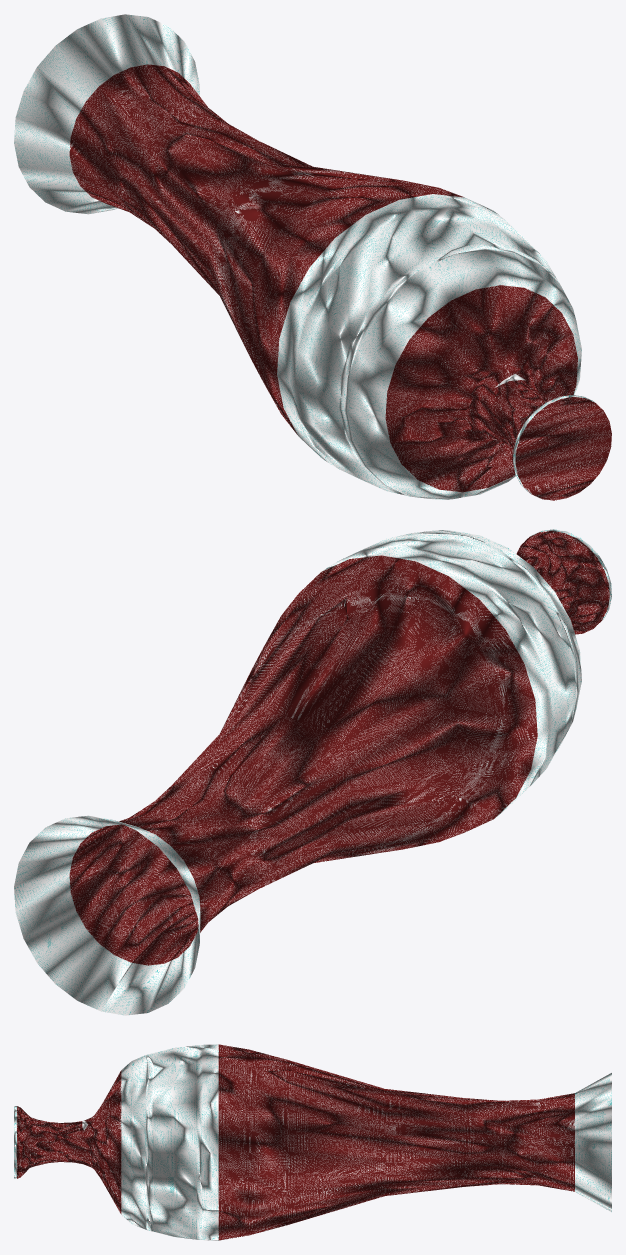
The model's file is model_align.obj.
The picture shows the model from 3 angles, top to bottom: view 1: azimuth 30°, elevation 25°; view 2: azimuth 150°, elevation 25°; view 3: azimuth 270°, elevation 25°; orthographic projection. The views are drawn at different scales.
Bounding box in the file's own units: 0.0446 × 0.0446 × 0.1355.
